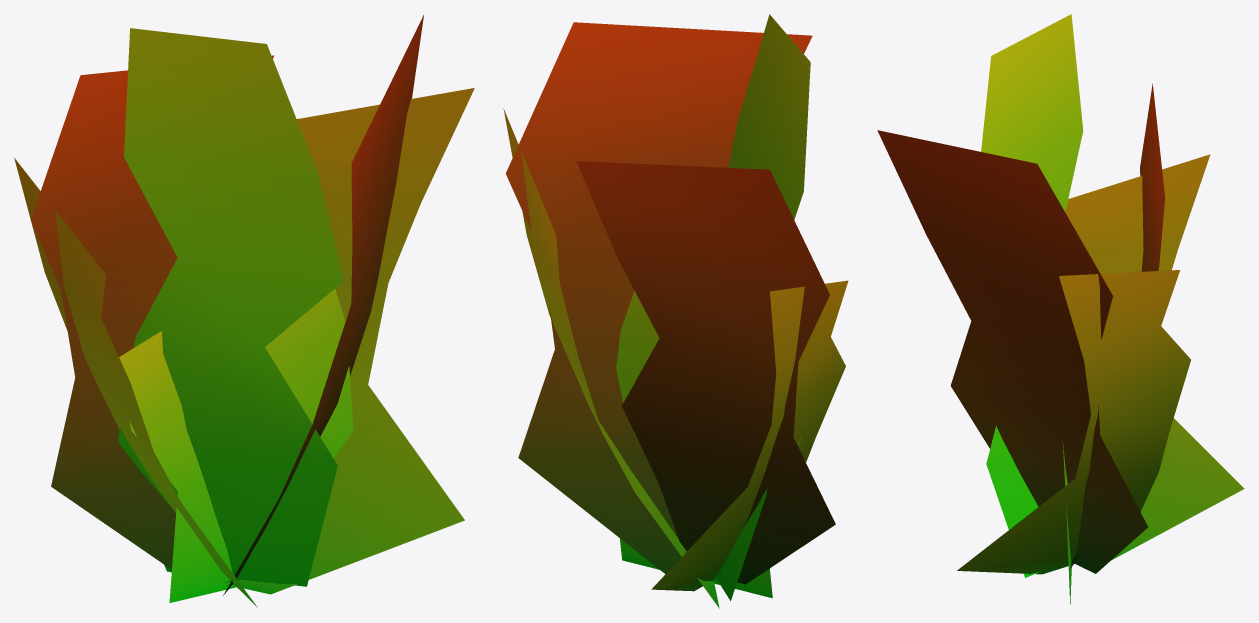
Rendered from Var8Hi49.fbx.
3 renders of one model, left to right at view 1: azimuth 30°, elevation 25°; view 2: azimuth 150°, elevation 25°; view 3: azimuth 270°, elevation 25°, orthographic. The views are drawn at different scales.
Parts seen in each view (by area): view 1: bend1; view 2: bend1; view 3: bend1.
Part boxes in pixels (x1,y1,x2,y2): bend1: [14, 15, 474, 607]; bend1: [503, 14, 848, 608]; bend1: [877, 14, 1244, 604].
Bounding box in the file's own units: 1.26 × 1.77 × 1.16.
